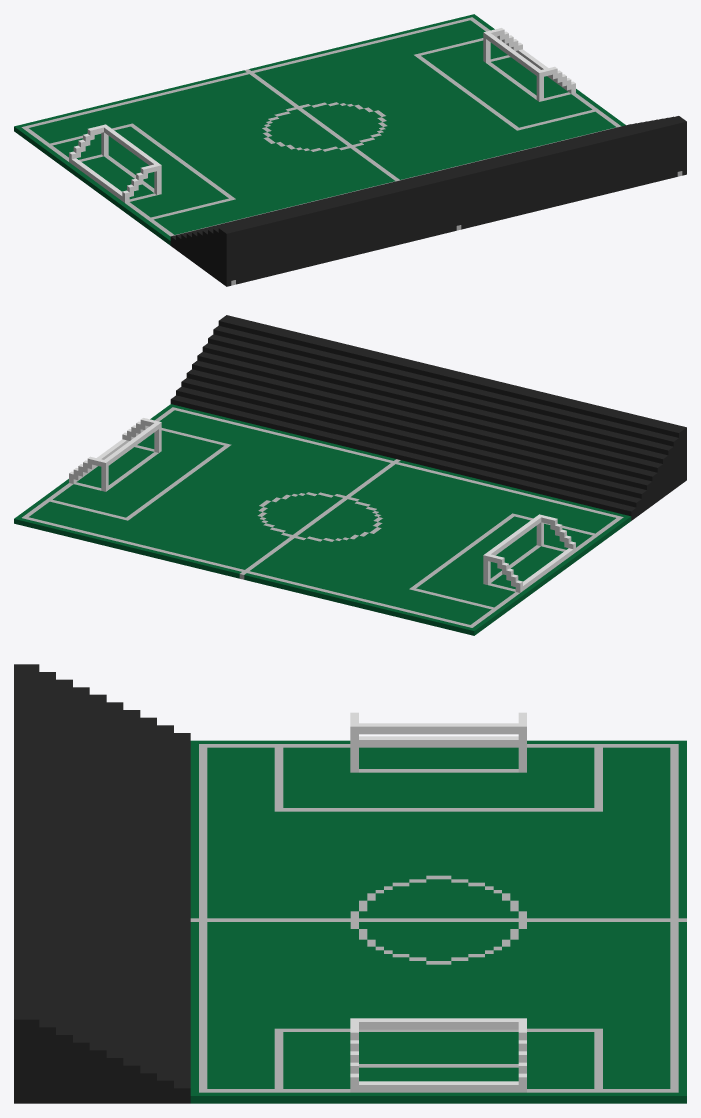
Rendered from cancha_00.fbx.
3 renders of one model, top to bottom at view 1: azimuth 30°, elevation 25°; view 2: azimuth 150°, elevation 25°; view 3: azimuth 270°, elevation 25°, orthographic. The views are drawn at different scales.
Visible parts, largest first — view 1: Cancha; view 2: Cancha; view 3: Cancha.
Boxes of the visible parts, bbox=[...] form: Cancha: bbox=[14, 14, 686, 286]; Cancha: bbox=[14, 315, 686, 635]; Cancha: bbox=[14, 664, 686, 1103].
Size of the model in its own units: 1000 by 110 by 800.
Materials: 1 (1 with a texture image).
